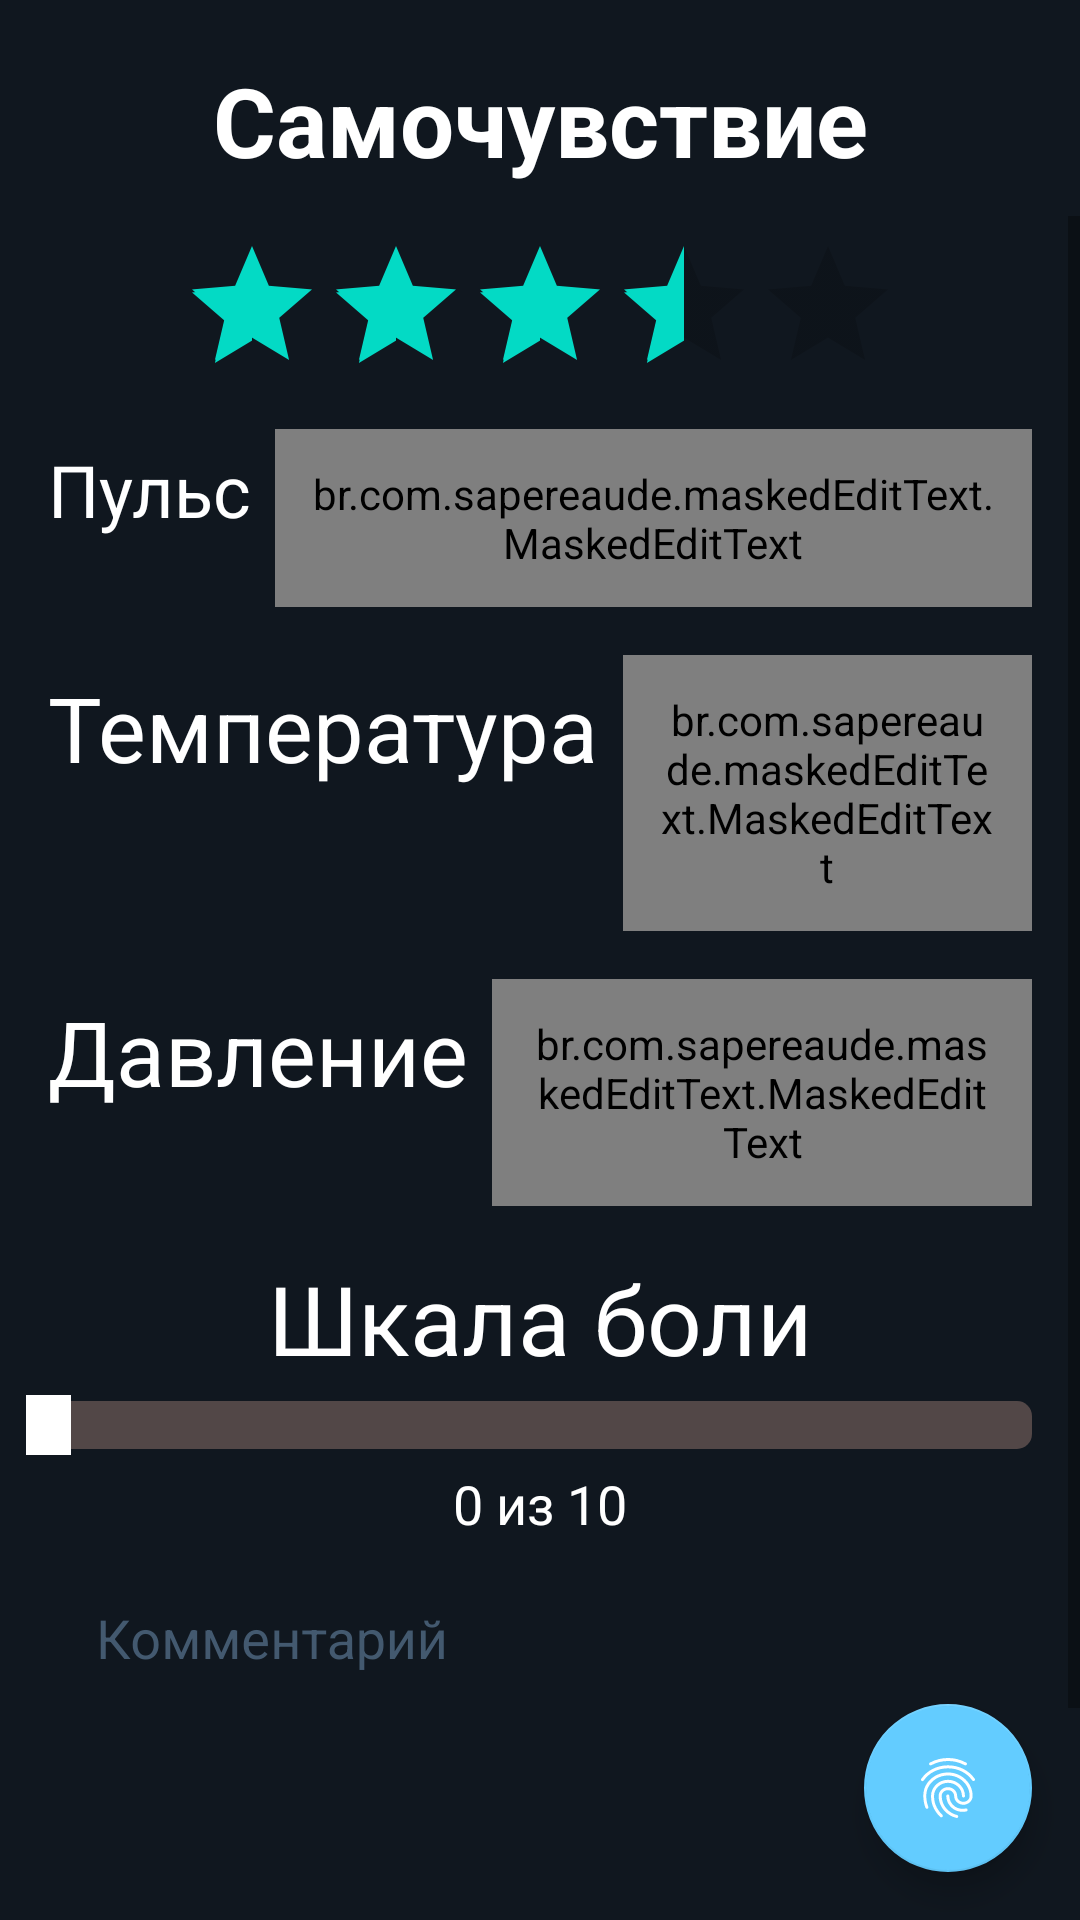

Locate icon controls on the screen. Image size 1080×1920, boxes as (x1, y1, x2, y2).
system finger: (864, 1704, 1032, 1872)
